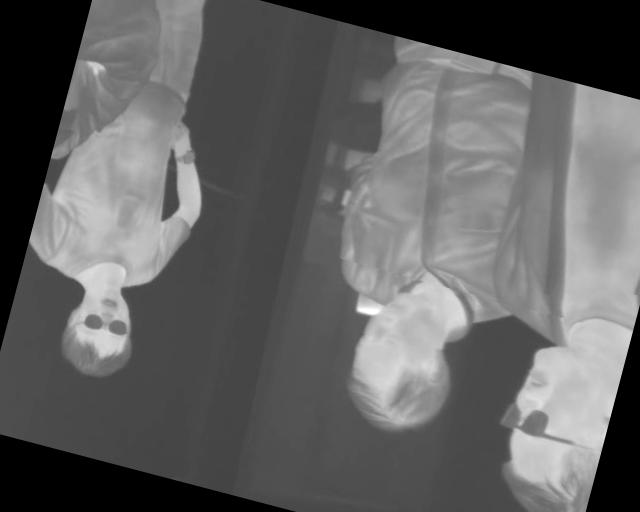face: (481, 337, 624, 512), (335, 284, 473, 444), (53, 275, 146, 385)
